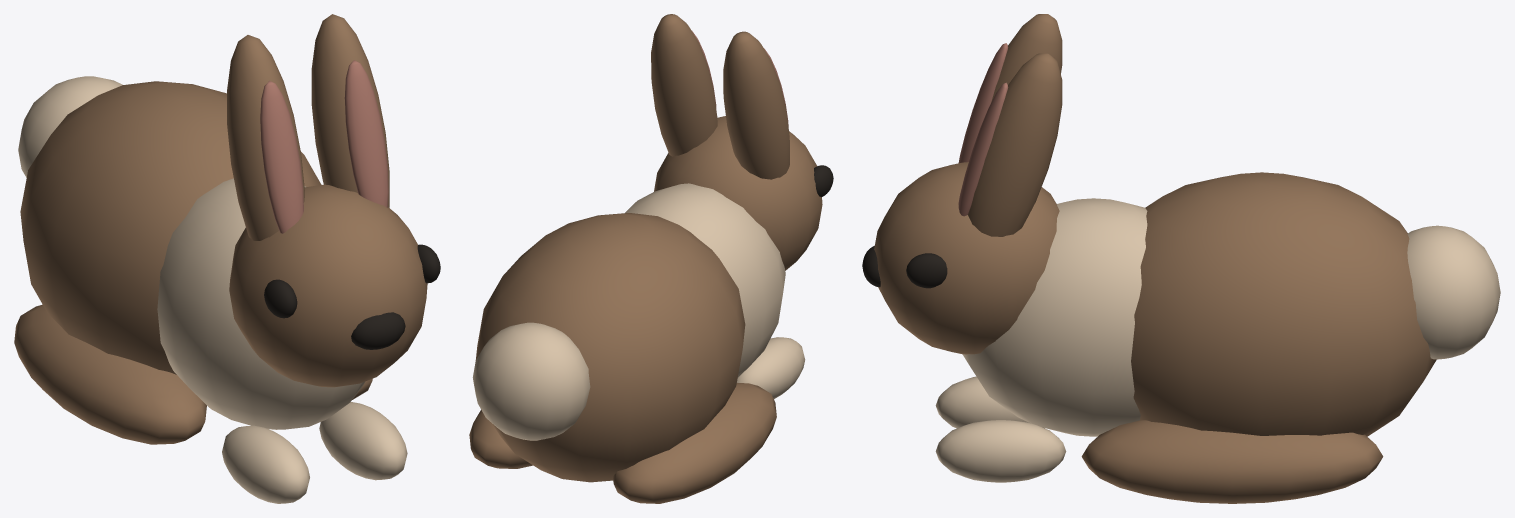
Rendered from ridge-cottontail.glb.
3 renders of one model, left to right at view 1: azimuth 30°, elevation 25°; view 2: azimuth 150°, elevation 25°; view 3: azimuth 270°, elevation 25°, orthographic. The views are drawn at different scales.
Parts seen in each view (by area): view 1: Cottontail brown, Pale throat and tail, Dusky inner ear, Dark wet eye; view 2: Cottontail brown, Pale throat and tail, Dark wet eye; view 3: Cottontail brown, Pale throat and tail, Dusky inner ear, Dark wet eye.
Part boxes in pixels (<box>): Cottontail brown: <box>14,14,427,444</box>; Pale throat and tail: <box>18,76,407,503</box>; Dusky inner ear: <box>260,60,388,233</box>; Dark wet eye: <box>264,244,440,349</box>; Cottontail brown: <box>469,14,822,503</box>; Pale throat and tail: <box>472,183,805,440</box>; Dark wet eye: <box>814,165,833,197</box>; Cottontail brown: <box>874,14,1436,503</box>; Pale throat and tail: <box>935,198,1500,482</box>; Dusky inner ear: <box>958,43,1008,216</box>; Dark wet eye: <box>862,246,947,288</box>.
Bounding box in the file's own units: 0.308 × 0.458 × 0.626.
